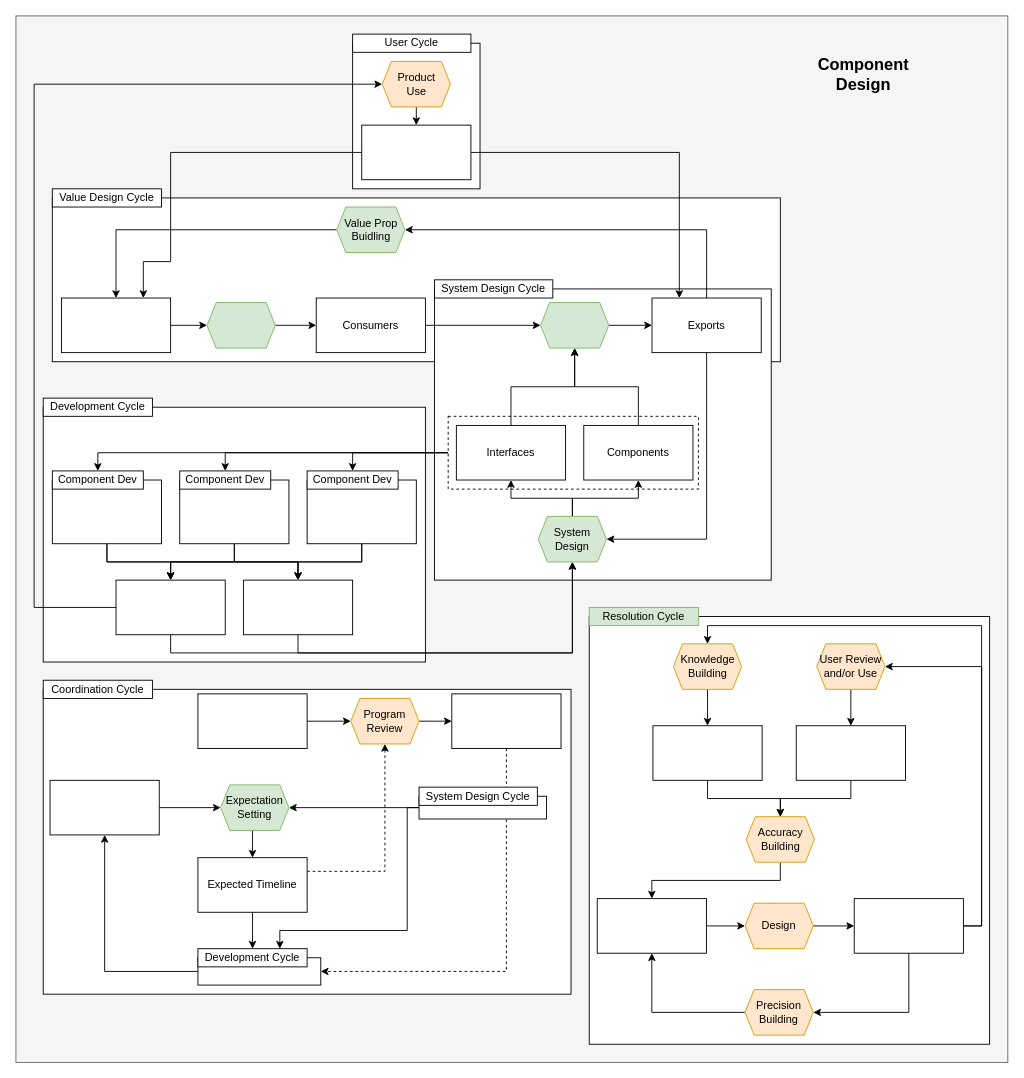
Some shapes in this 1024 by 1078 pixel diagram are drawn without their labels. Each missing label, with the centre of its shape:
"Artefacts" goes at pixel 908 925.
"Component Feedback" goes at pixel 298 607.
"Component Increments" goes at pixel 170 607.
"Consumer Discovery" goes at pixel 240 325.
"Consumer Feedback" goes at pixel 416 152.
"Consumer Timeline" goes at pixel 252 720.
"Development Rates" goes at pixel 104 807.
"Export Design" goes at pixel 574 325.
"Feedback" goes at pixel 850 752.
"Knowledge" goes at pixel 707 752.
"Requirements" goes at pixel 651 925.
"Resourcing Changes" goes at pixel 506 720.
"Value Propositions" goes at pixel 116 325.
